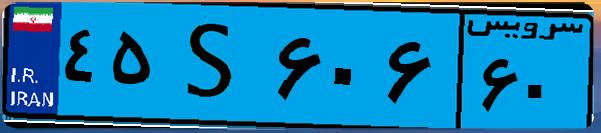0: (330, 28, 385, 110), (525, 38, 570, 115)
4: (57, 26, 110, 100)
5: (110, 28, 158, 98)
6: (270, 28, 330, 110), (385, 28, 445, 110), (475, 38, 525, 113)
S: (158, 12, 270, 120)
